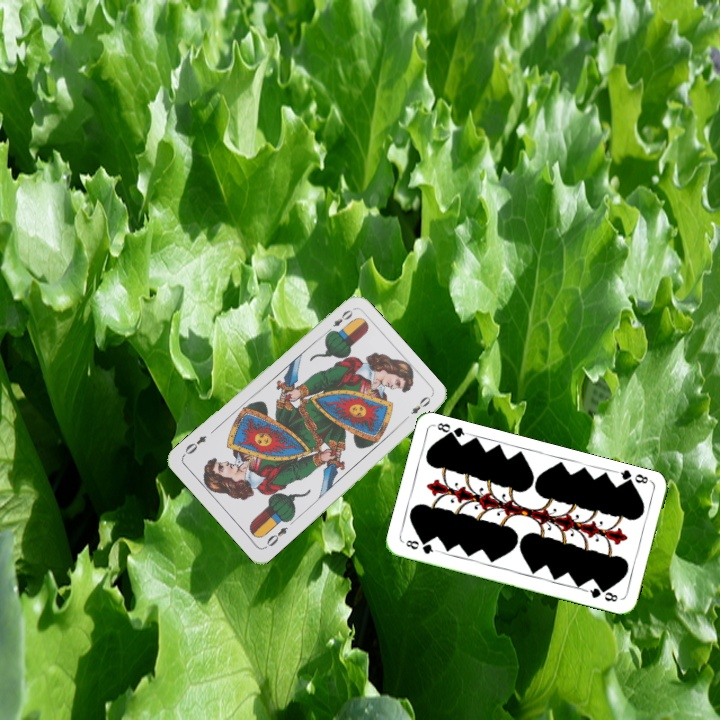EO: (322, 305, 355, 337), (261, 523, 290, 551)
G8: (613, 466, 653, 489), (402, 536, 440, 557)
